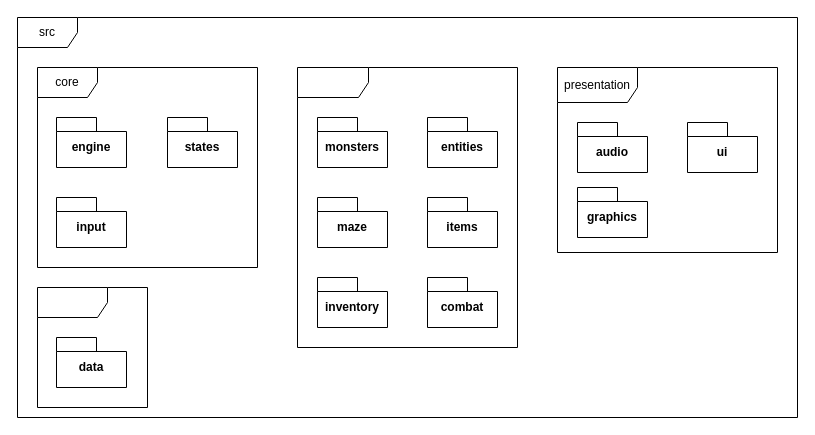
Some shapes in this 815 by 435 pixel diagram are drawn without their labels. Each missing label, with the box of its shape:
gamePlay: (296, 66, 518, 348)
resources: (36, 286, 148, 408)
